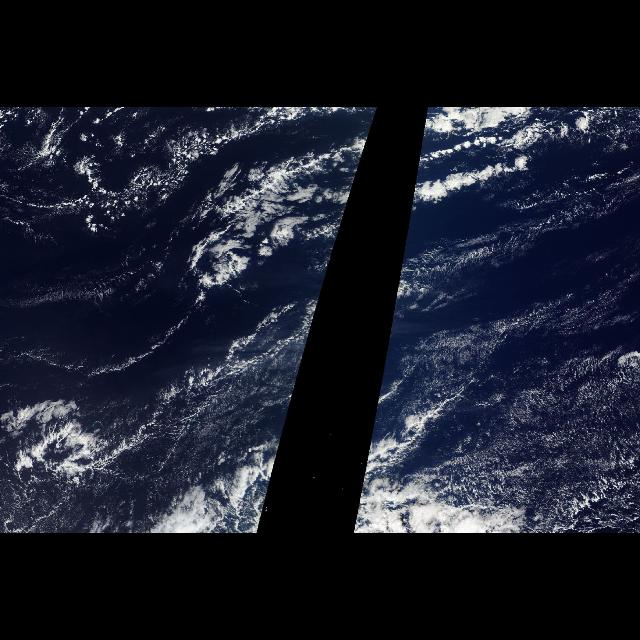Fish: (128, 128, 374, 292), (396, 128, 512, 292)
Sugar: (399, 217, 639, 533)
